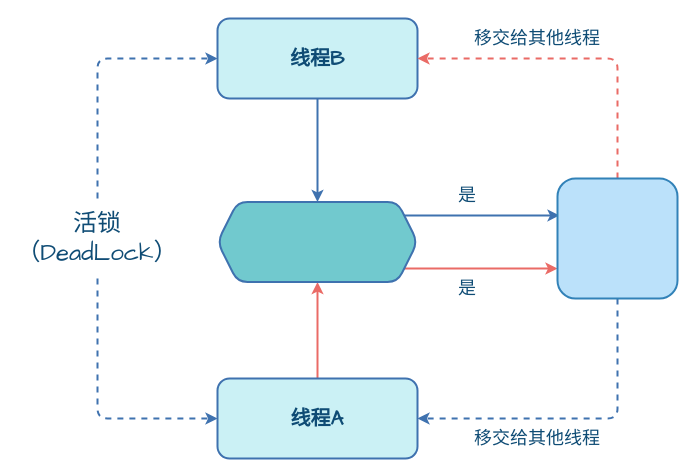
Image size: 696x476. Some labels were removed from this diagram. The centre of each missing label's shape, as x and y in pixels:
是否有其他 活跃线程: (x=317, y=241)
资源: (x=617, y=238)
